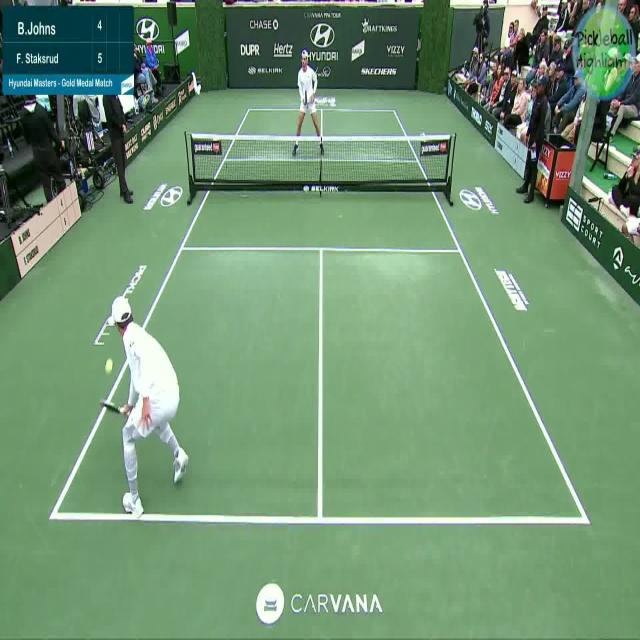Court: (52, 110, 587, 523)
ball: (104, 357, 115, 377)
